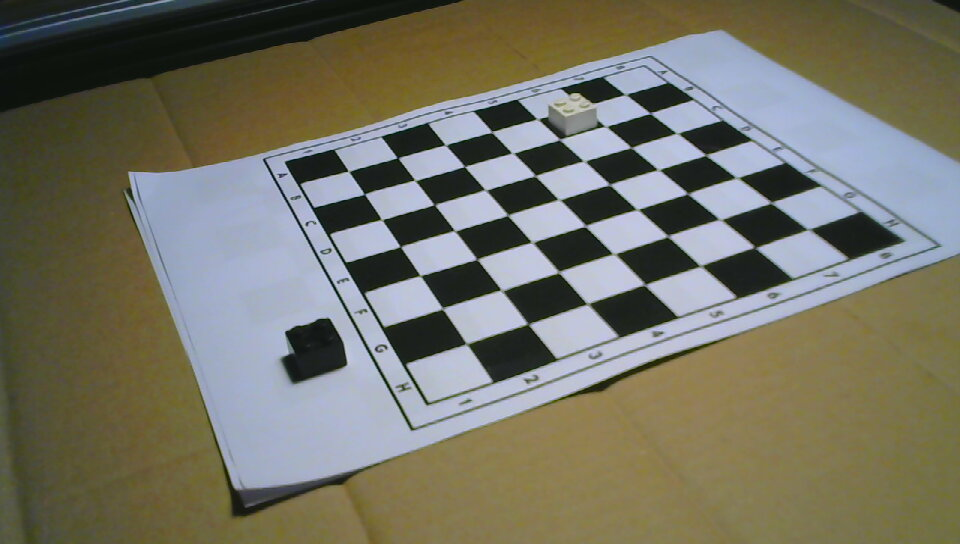bp: (285, 317, 347, 379)
wp: (547, 92, 598, 135)
